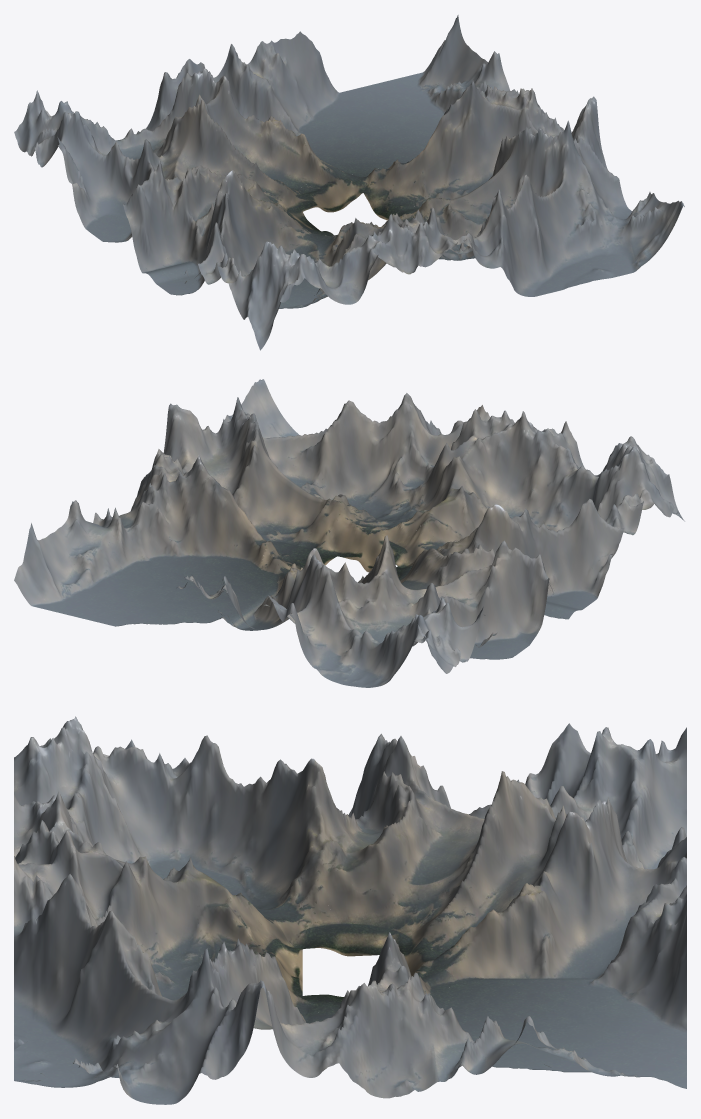
Rendered from backdrop.glb.
The picture shows the model from 3 angles, top to bottom: view 1: azimuth 30°, elevation 25°; view 2: azimuth 150°, elevation 25°; view 3: azimuth 270°, elevation 25°; orthographic projection. The views are drawn at different scales.
Parts seen in each view (by area): view 1: backdrop_far, backdrop_near; view 2: backdrop_far, backdrop_near; view 3: backdrop_far, backdrop_near.
Boxes of the visible parts, left/top/right/bottom form: backdrop_far: left=14, top=15, right=684, bottom=350; backdrop_near: left=251, top=162, right=448, bottom=248; backdrop_far: left=14, top=379, right=684, bottom=687; backdrop_near: left=251, top=498, right=443, bottom=581; backdrop_far: left=14, top=716, right=686, bottom=1104; backdrop_near: left=250, top=890, right=451, bottom=1014.
Bounding box in the file's own units: 1280 × 325 × 1280.
1 material, 1 textured.
